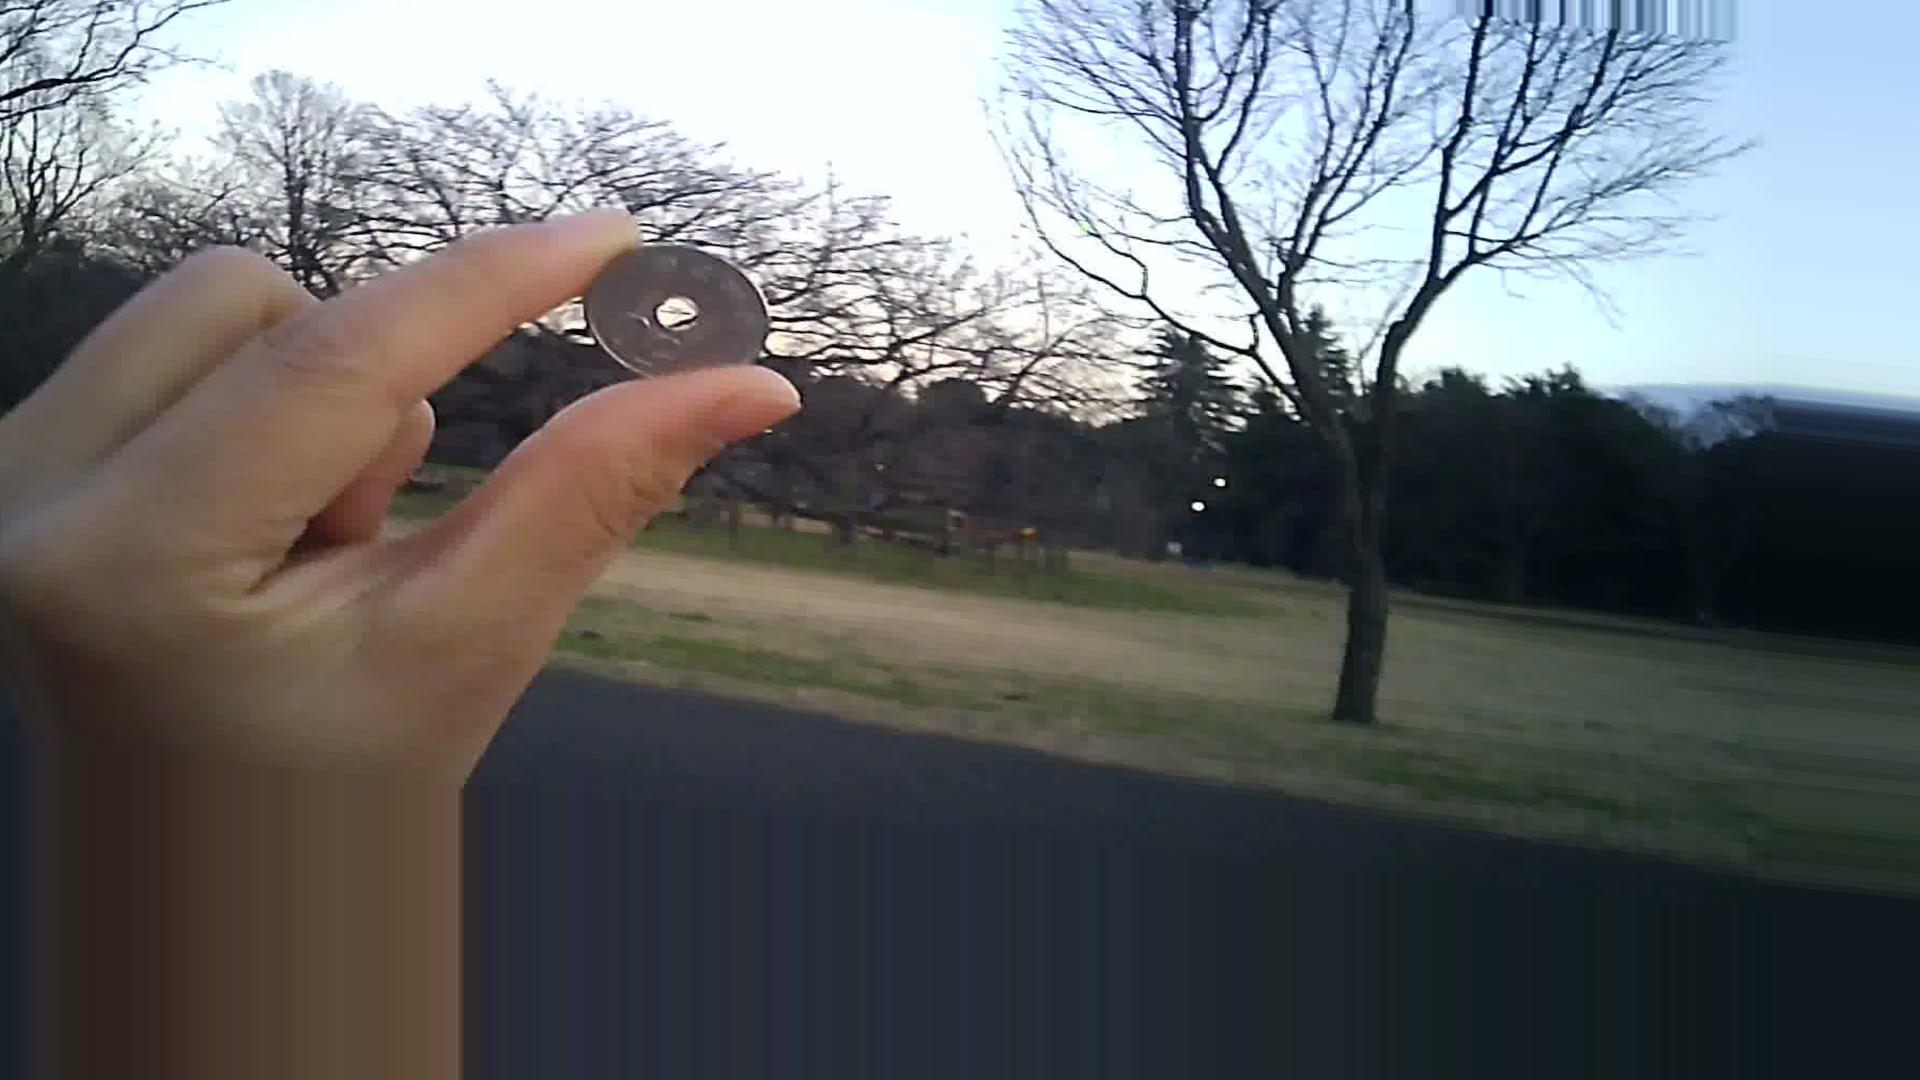50 Yen: (570, 227, 778, 378)
